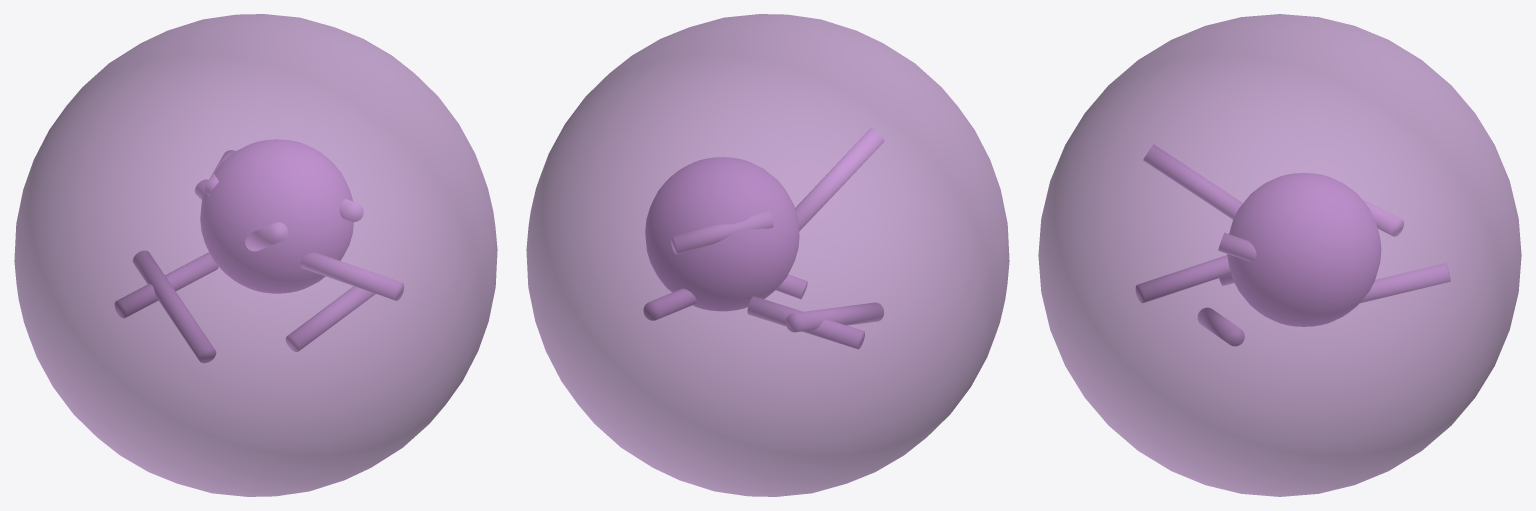
Rendered from nucleus.glb.
3 renders of one model, left to right at view 1: azimuth 30°, elevation 25°; view 2: azimuth 150°, elevation 25°; view 3: azimuth 270°, elevation 25°, orthographic.
Visible parts, largest first — view 1: Icosphere; view 2: Icosphere; view 3: Icosphere.
Boxes of the visible parts, x1,y1,x2,y2 form: Icosphere: (14,14,497,496); Icosphere: (526,14,1009,496); Icosphere: (1038,14,1521,496).
Size of the model in its own units: 0.1 by 0.1 by 0.1.
